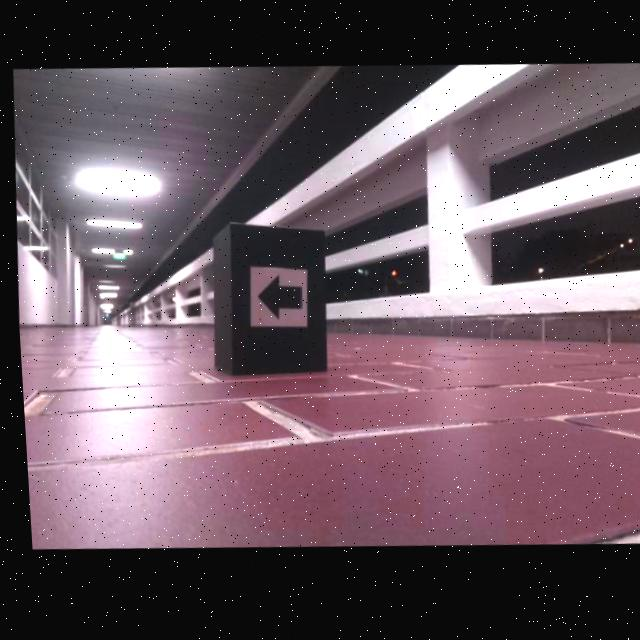LEFT: (254, 275, 297, 323)
